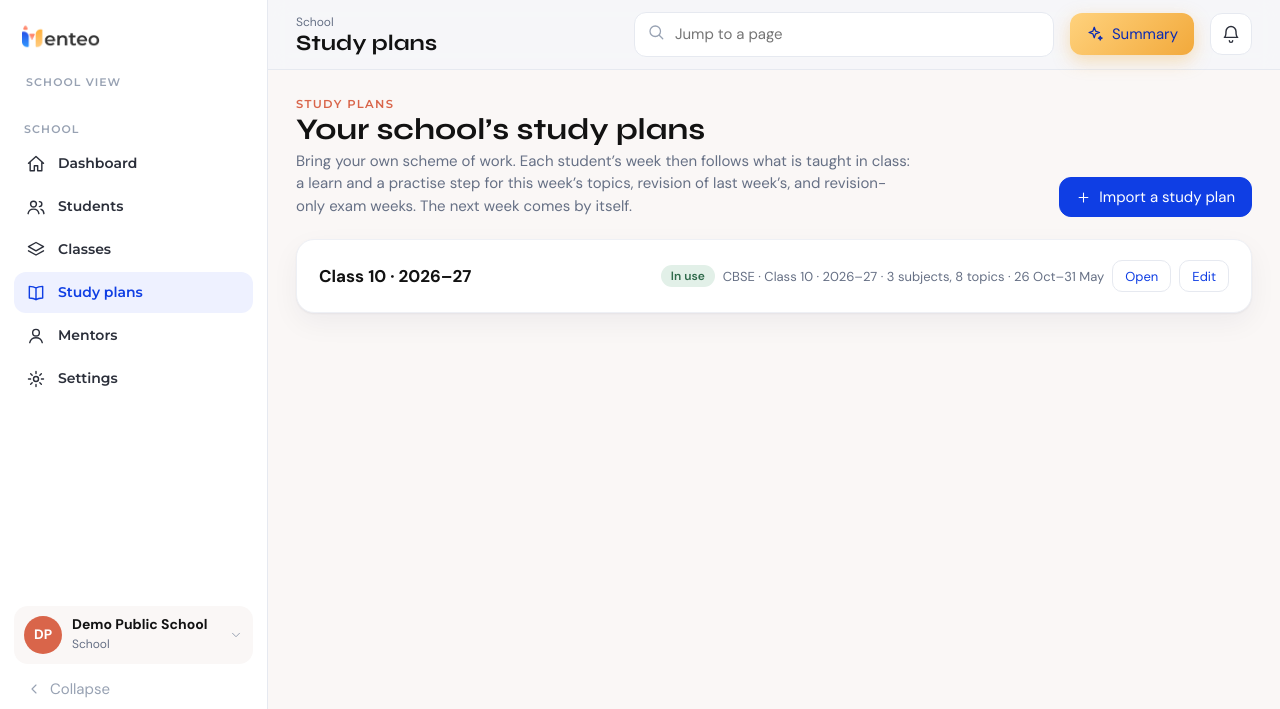
it: school: the console, the study-plan import and the roster import › assigns a plan to more classes
The image size is (1280, 709).
Step 1. Click the button "Open" → (1142, 276), box [1112, 260, 1171, 292]
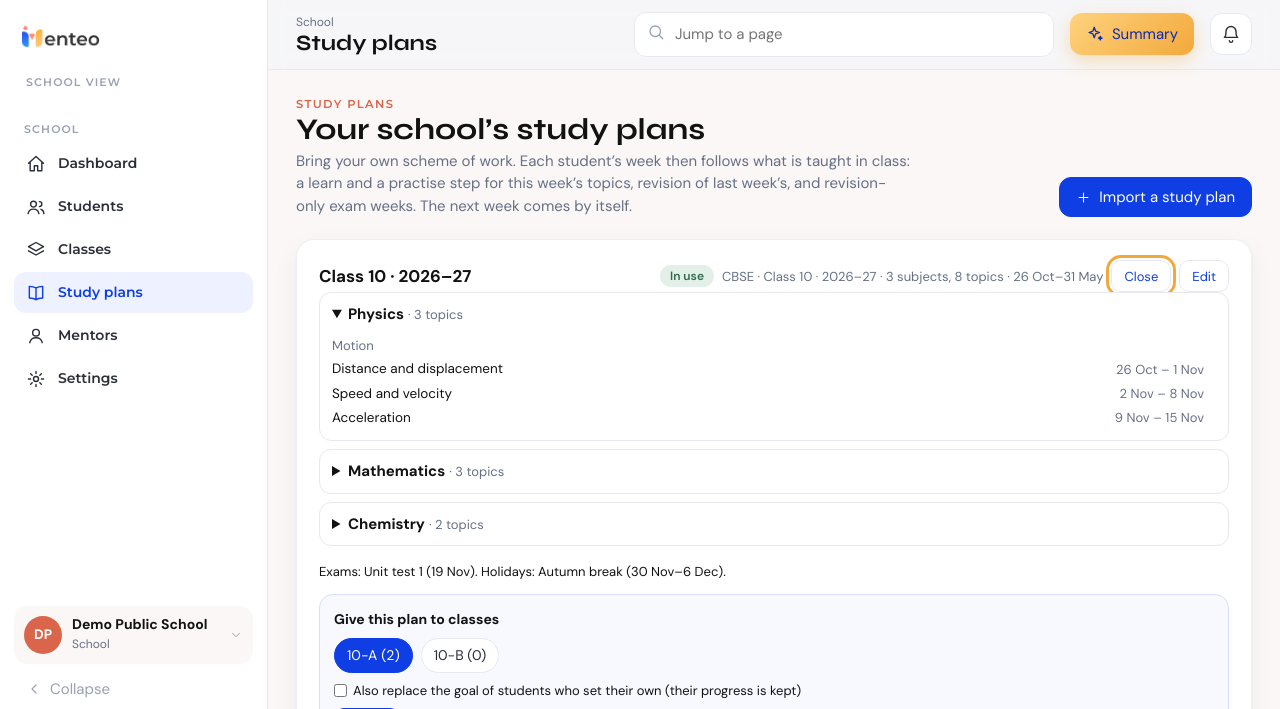
Step 2. Click the button "10-B (0)" → (460, 655), box [421, 638, 499, 672]
(page scrolled)
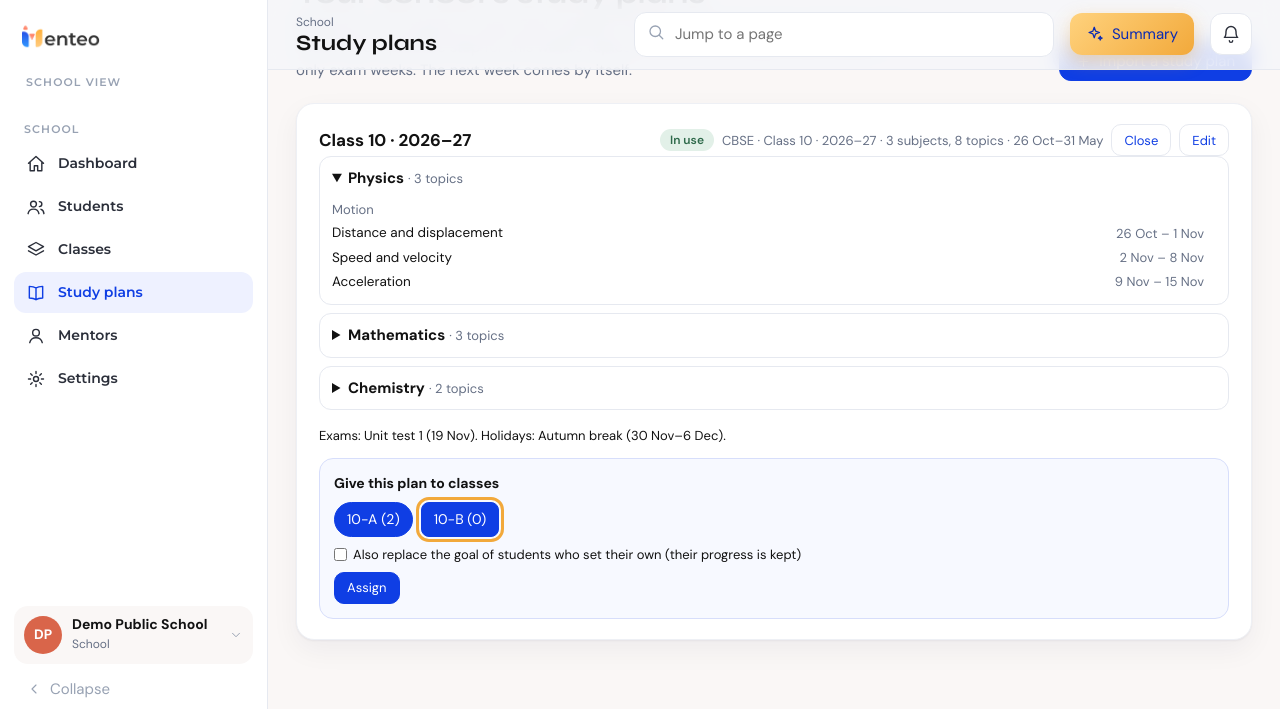
Step 3. Click the button "Assign" → (367, 588), box [334, 572, 400, 604]
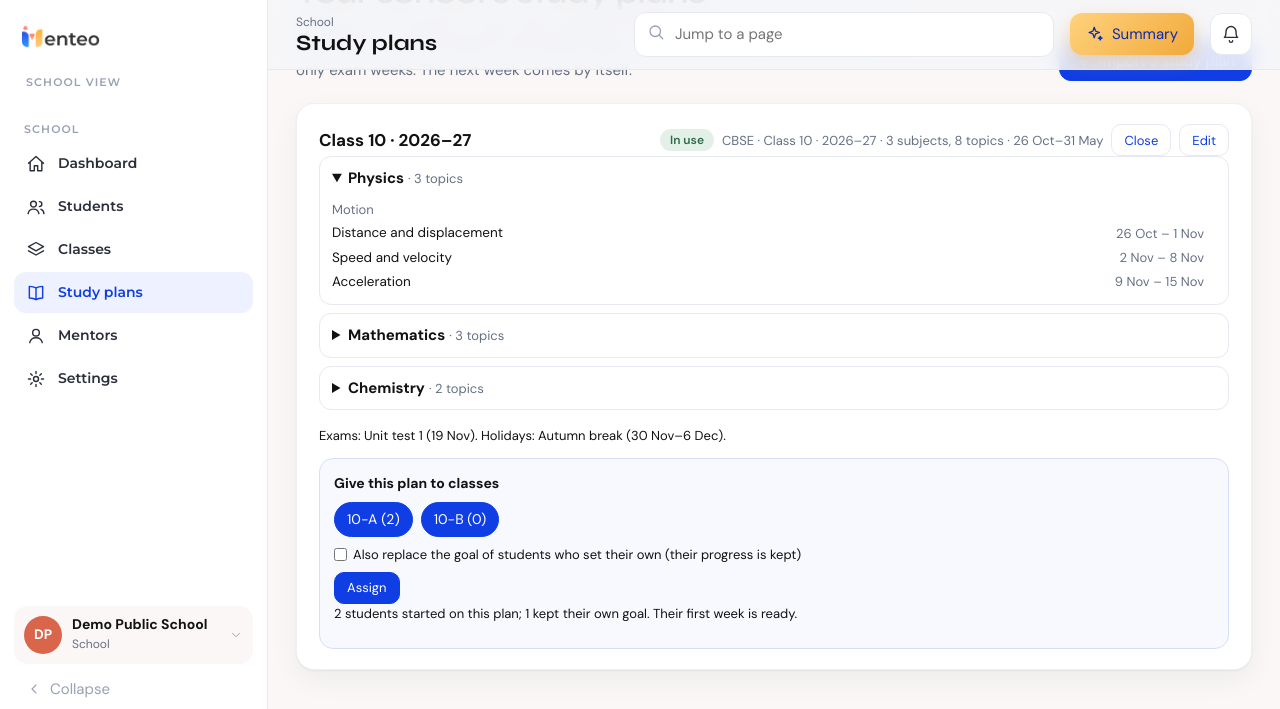
Check: the text "2 students started on this plan; 1 kept their own goal" is shown, box [334, 605, 797, 622]
